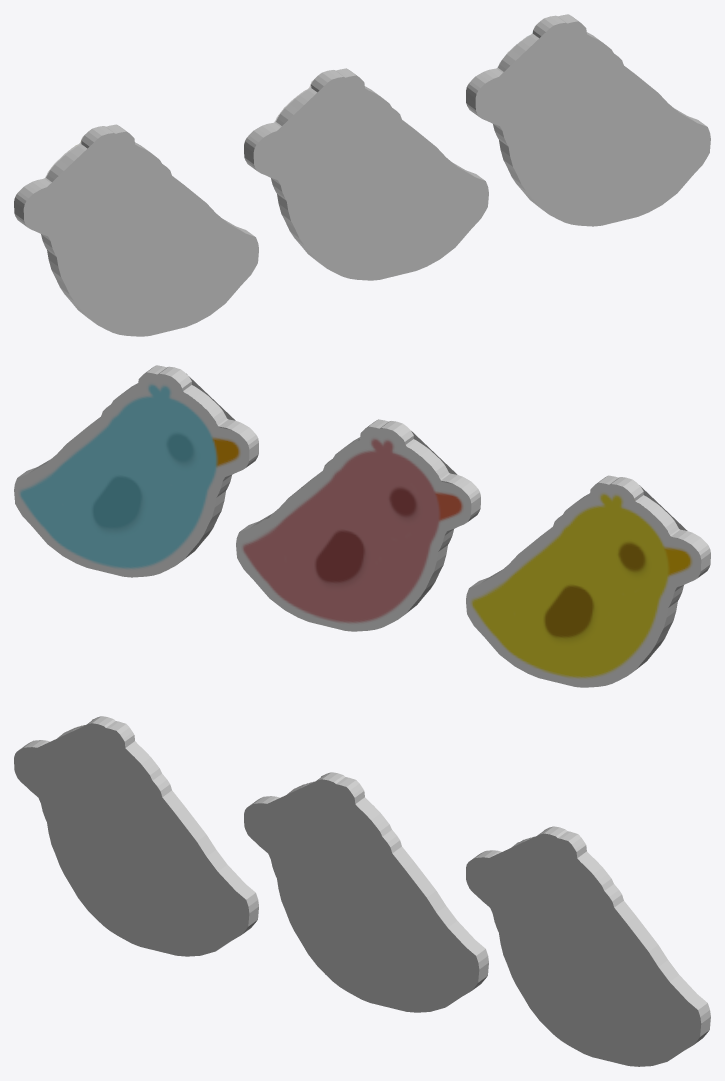
The model's file is birds.fbx.
3 renders of one model, top to bottom at view 1: azimuth 30°, elevation 25°; view 2: azimuth 150°, elevation 25°; view 3: azimuth 330°, elevation 25°, orthographic.
Parts seen in each view (by area): view 1: Plane.002, Plane.001, Plane; view 2: Plane.001, Plane.002, Plane; view 3: Plane.002, Plane.001, Plane.
Boxes of the visible parts, <box> form: Plane.002: <box>14,124,258,336</box>; Plane.001: <box>244,68,488,280</box>; Plane: <box>466,14,710,226</box>; Plane.001: <box>236,419,480,631</box>; Plane.002: <box>466,475,710,687</box>; Plane: <box>14,365,258,577</box>; Plane.002: <box>14,716,258,956</box>; Plane.001: <box>244,772,488,1012</box>; Plane: <box>466,826,710,1066</box>.
Size of the model in its own units: 245 by 72.4 by 6.01.
